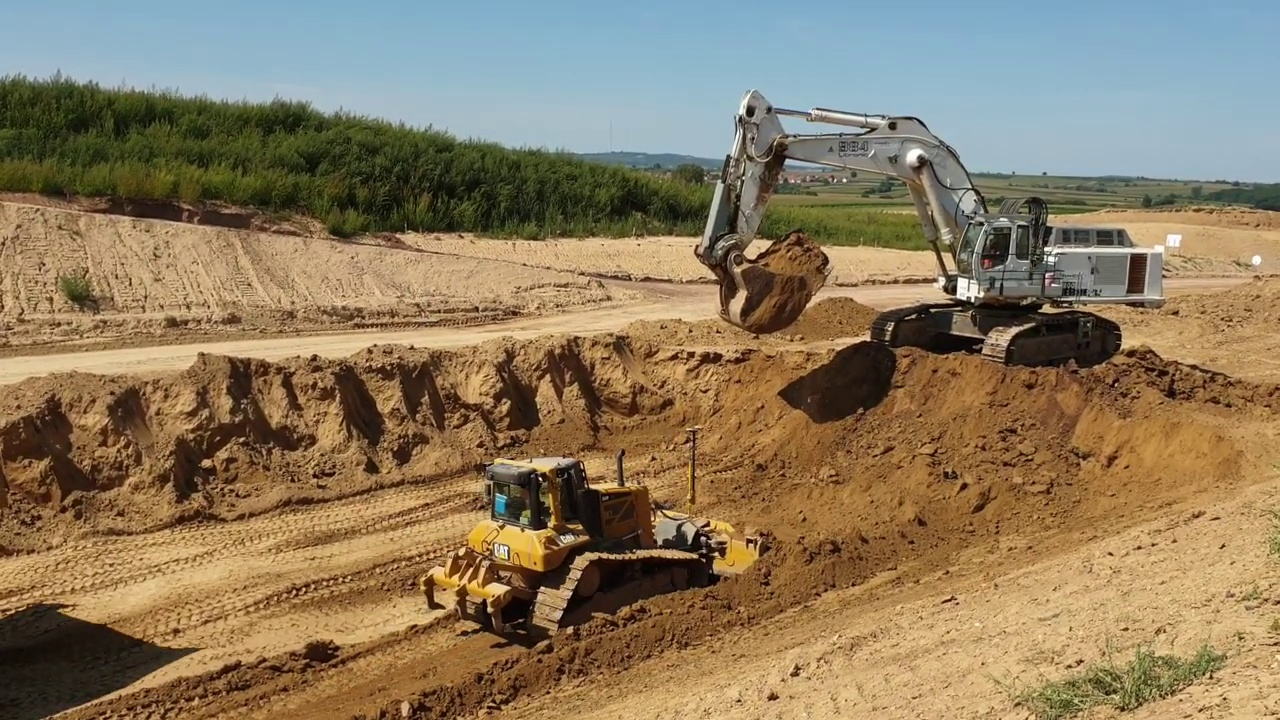bulldozer: (419, 419, 781, 644)
excavator: (691, 85, 1170, 375)
